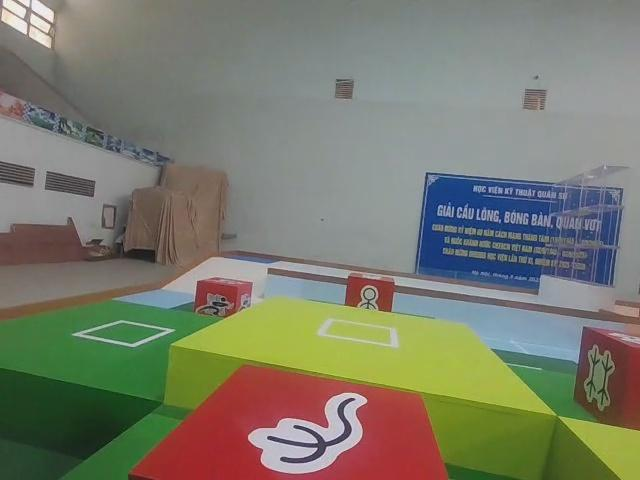R1: (192, 273, 255, 323)
R2 Real: (132, 361, 451, 480), (573, 326, 640, 431)
